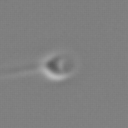normal: (1, 60, 42, 84)
